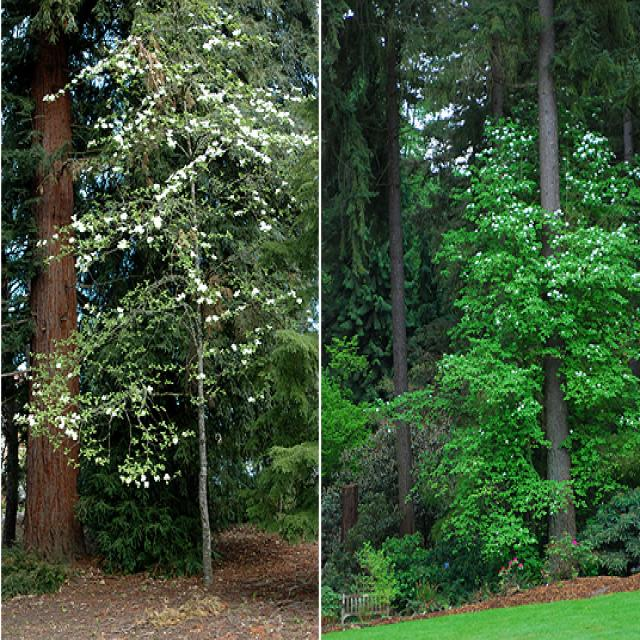Cornus nuttallii: (31, 0, 306, 597), (447, 4, 630, 590), (332, 0, 438, 558)
